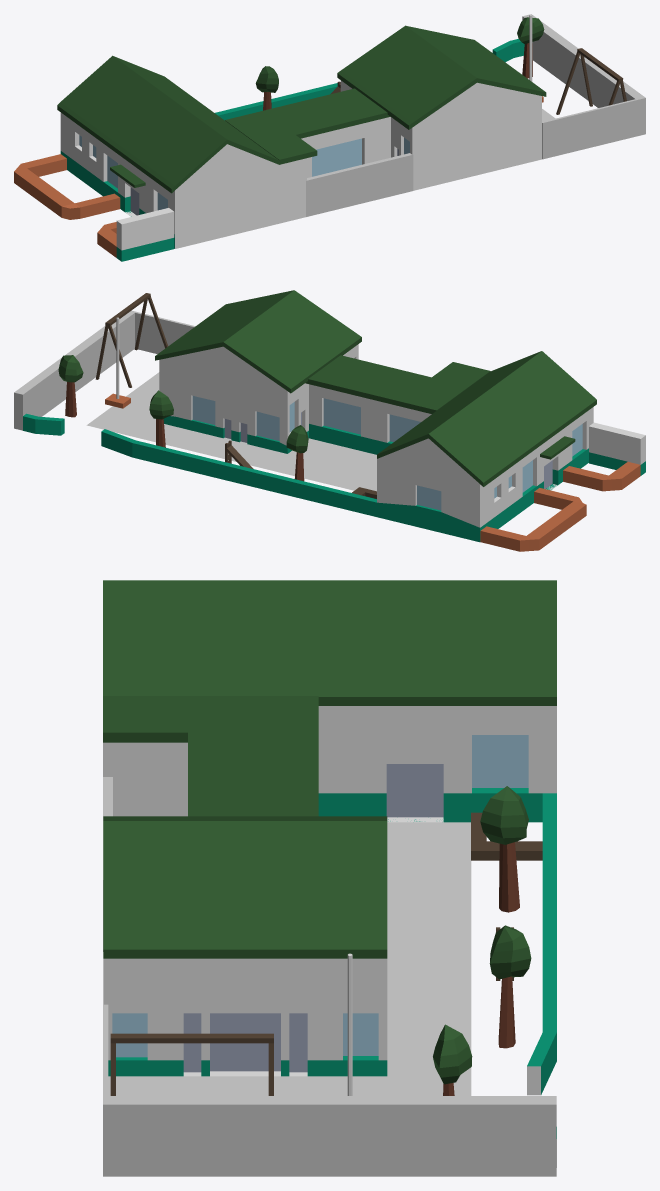
File: jardin.gltf
The picture shows the model from 3 angles, top to bottom: view 1: azimuth 30°, elevation 25°; view 2: azimuth 150°, elevation 25°; view 3: azimuth 270°, elevation 25°; orthographic projection. The views are drawn at different scales.
Visible parts, largest first — view 1: EdificioPrincipal, EdficioPatio, TapialTrasero, TapialPatiecito, TapialFrente, TapialcitoFrente, Juegos, TCopa1, Tcopa3, Cube; view 2: EdificioPrincipal, EdficioPatio, Patio, TapialTrasero, TapialFrente, TapialcitoFrente, Juegos, TCopa1, TCopa2, Tcopa3, Cube; view 3: EdificioPrincipal, EdficioPatio, TapialTrasero, Patio, Juegos, Tcopa3, TCopa2, TCopa1, Tronco3, Tronco2, MastilPalo.
Part boxes in pixels (x1=…): EdificioPrincipal: x1=57, y1=39, x2=524, y2=248; EdficioPatio: x1=337, y1=25, x2=546, y2=190; TapialTrasero: x1=522, y1=14, x2=645, y2=159; TapialPatiecito: x1=306, y1=153, x2=413, y2=216; TapialFrente: x1=97, y1=208, x2=174, y2=261; TapialcitoFrente: x1=14, y1=154, x2=120, y2=219; Juegos: x1=330, y1=48, x2=626, y2=114; TCopa1: x1=517, y1=17, x2=544, y2=44; Tcopa3: x1=255, y1=66, x2=278, y2=92; Cube: x1=110, y1=164, x2=145, y2=187; EdificioPrincipal: x1=23, y1=351, x2=596, y2=542; EdficioPatio: x1=155, y1=290, x2=361, y2=453; Patio: x1=86, y1=372, x2=376, y2=491; TapialTrasero: x1=14, y1=310, x2=195, y2=430; TapialFrente: x1=563, y1=422, x2=645, y2=491; TapialcitoFrente: x1=480, y1=488, x2=586, y2=551; Juegos: x1=95, y1=293, x2=376, y2=498; TCopa1: x1=58, y1=355, x2=83, y2=382; TCopa2: x1=149, y1=390, x2=173, y2=419; Tcopa3: x1=286, y1=425, x2=308, y2=453; Cube: x1=540, y1=436, x2=575, y2=459; EdificioPrincipal: x1=103, y1=580, x2=556, y2=1167; EdficioPatio: x1=103, y1=816, x2=387, y2=1076; TapialTrasero: x1=103, y1=1004, x2=556, y2=1176; Patio: x1=108, y1=822, x2=471, y2=1095; Juegos: x1=110, y1=812, x2=542, y2=1095; Tcopa3: x1=480, y1=786, x2=528, y2=844; TCopa2: x1=489, y1=925, x2=531, y2=979; TCopa1: x1=433, y1=1024, x2=472, y2=1084; Tronco3: x1=499, y1=842, x2=519, y2=912; Tronco2: x1=498, y1=976, x2=515, y2=1048; MastilPalo: x1=347, y1=953, x2=352, y2=1095.
Size of the model in its own units: 9.21 by 1.66 by 3.49.
